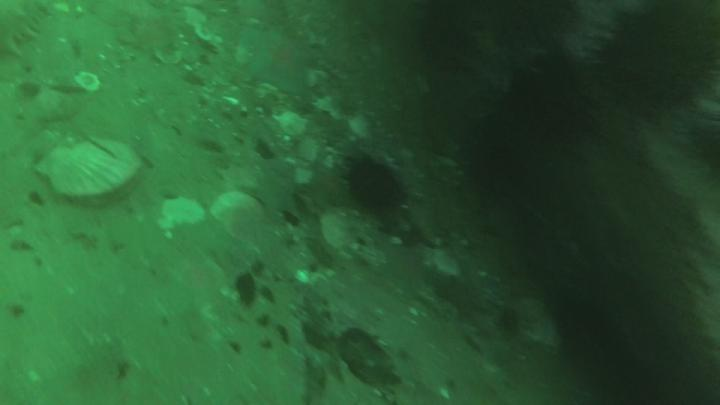echinus: (597, 20, 708, 121), (517, 69, 596, 142), (468, 130, 529, 197), (348, 159, 405, 210)
scallop: (35, 137, 145, 198), (212, 193, 266, 235)
